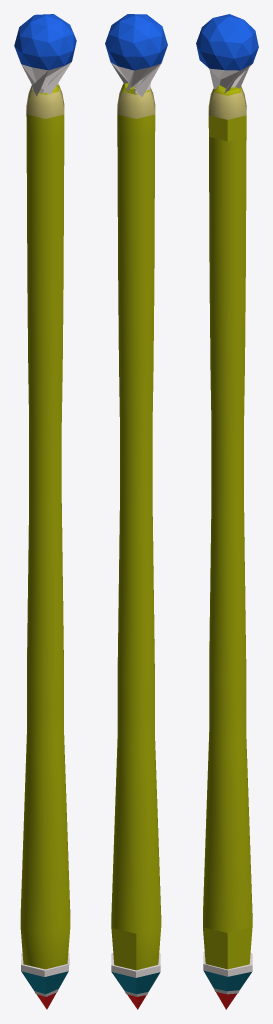
The model's file is посох.fbx.
The picture shows the model from 3 angles, left to right: view 1: azimuth 90°, elevation 25°; view 2: azimuth 150°, elevation 25°; view 3: azimuth 330°, elevation 25°; orthographic projection.
Visible parts, largest first — view 1: Цилиндр; view 2: Цилиндр; view 3: Цилиндр.
Boxes of the visible parts, bbox=[...] form: Цилиндр: bbox=[14, 14, 76, 1009]; Цилиндр: bbox=[105, 14, 167, 1009]; Цилиндр: bbox=[196, 14, 258, 1009].
Size of the model in its own units: 7.06 by 125 by 7.14.
